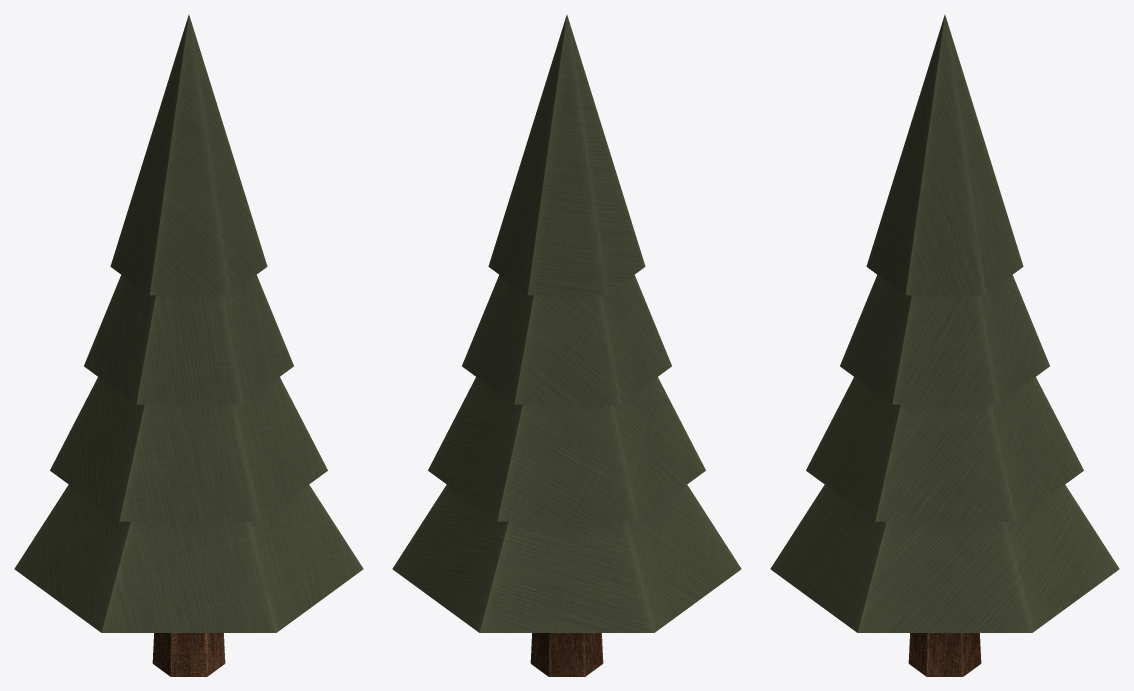
Rendered from tree.glb.
The picture shows the model from 3 angles, left to right: view 1: azimuth 30°, elevation 25°; view 2: azimuth 150°, elevation 25°; view 3: azimuth 270°, elevation 25°; orthographic projection.
Parts seen in each view (by area): view 1: Tree; view 2: Tree; view 3: Tree.
Part boxes in pixels (left/top/right/bottom): Tree: left=14, top=15, right=363, bottom=676; Tree: left=392, top=15, right=741, bottom=676; Tree: left=770, top=15, right=1119, bottom=676.
Size of the model in its own units: 0.2645 by 0.6265 by 0.3055.
Materials: 1 (1 with a texture image).
